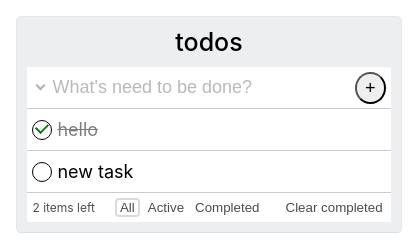
Test: App e2e test › todolist should clear completed tasks
The image size is (419, 250).
What coordinates should you click on to do the following:
click the button "Clear completed"
I would click on:
 (335, 208)
Its box is [283,200,386,215].
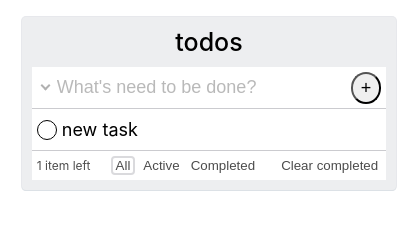
Expected: the text "new task" is shown, [62,120,138,140]
Now the number of elements with test id "task" is 1, box [32,109,386,151]
Now the text "hello" is gone
